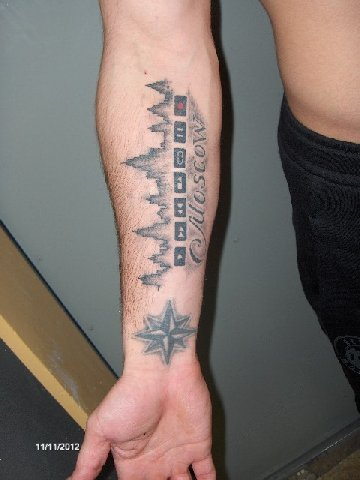tatu4_zvezda: (130, 301, 195, 367)
